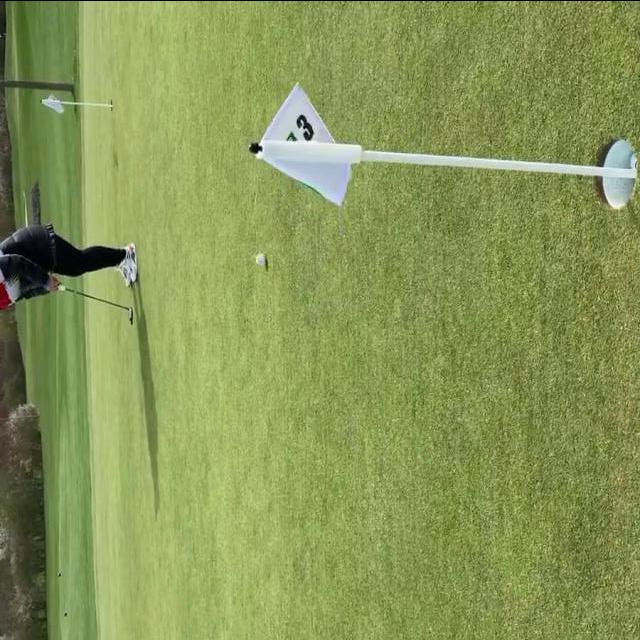golf ball: (255, 252, 265, 263)
golf club-handle: (56, 284, 133, 324)
golf club-head: (129, 306, 133, 323)
